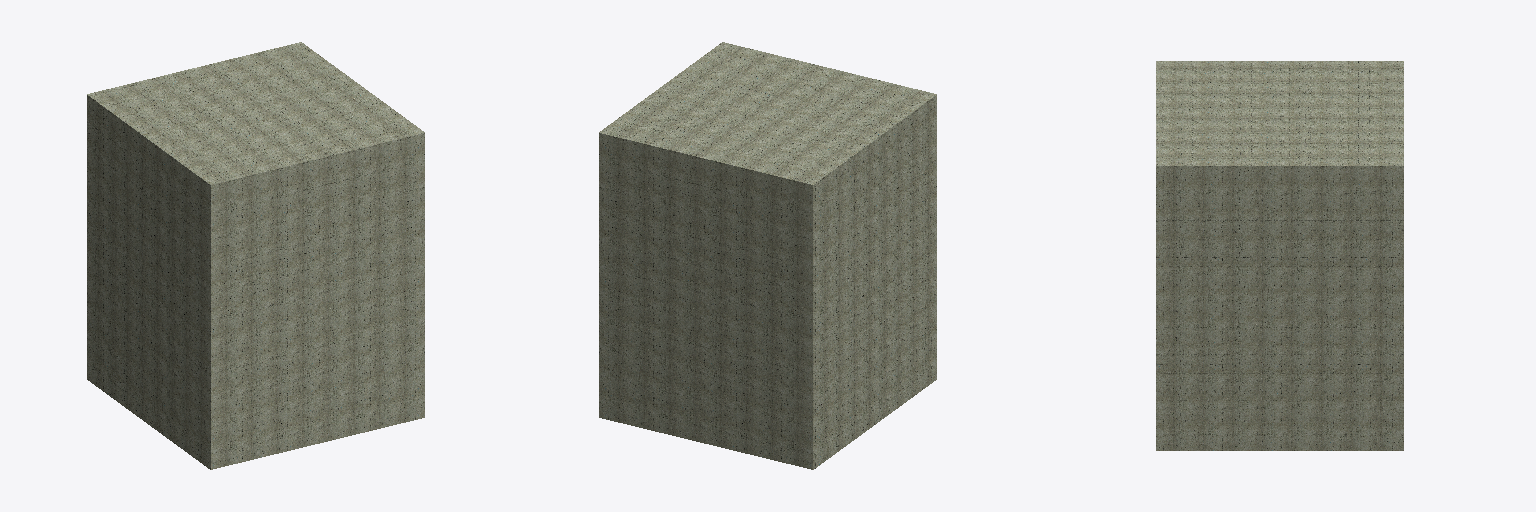
3 renders of one model, left to right at view 1: azimuth 30°, elevation 25°; view 2: azimuth 150°, elevation 25°; view 3: azimuth 270°, elevation 25°, orthographic.
Visible parts, largest first — view 1: Plane; view 2: Plane; view 3: Plane.
Part boxes in pixels (bbox=[...]): Plane: bbox=[87, 42, 424, 469]; Plane: bbox=[599, 42, 936, 469]; Plane: bbox=[1156, 61, 1403, 450].
Bounding box in the file's own units: 20.62 × 26.14 × 20.62.
2 materials, 2 textured.